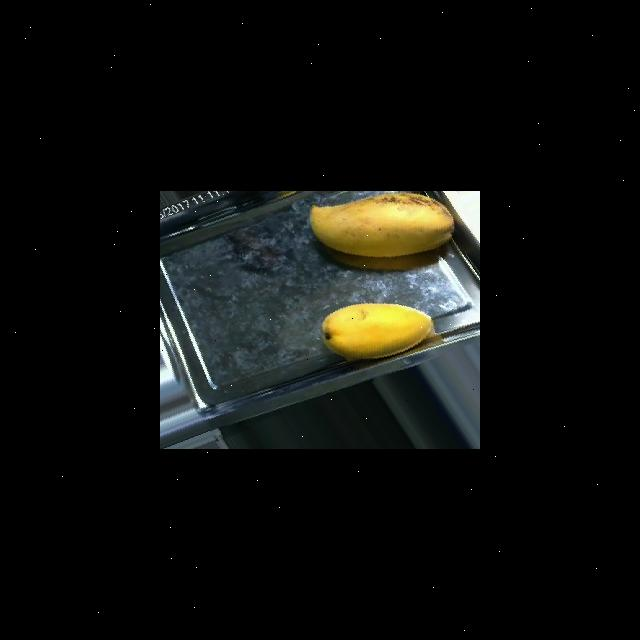Mango: (310, 191, 455, 257), (322, 301, 436, 361)
